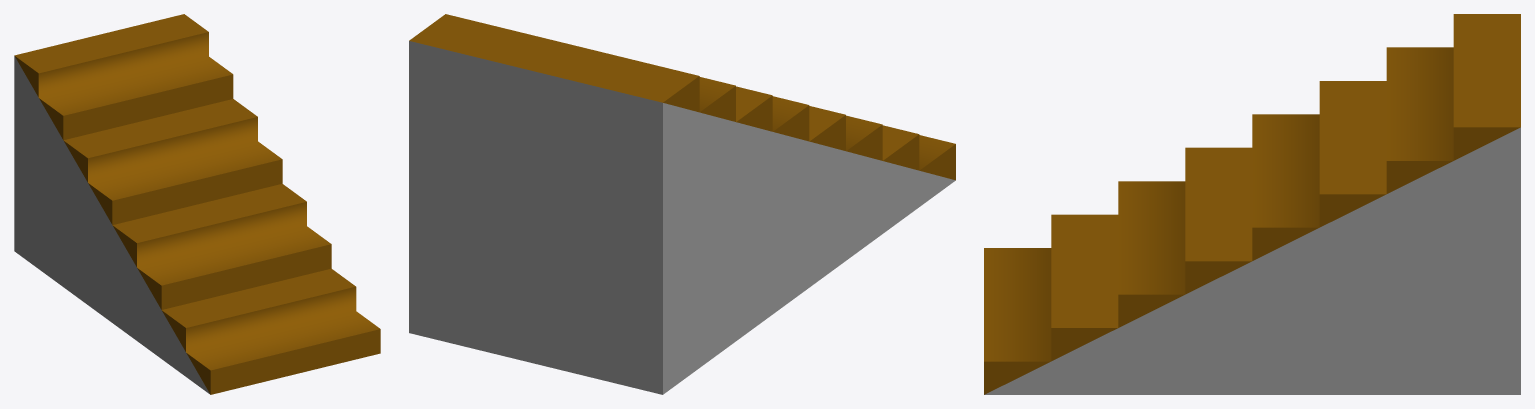
File: Stair_Half_1x2.fbx
3 views of the same model, side by side, from view 1: azimuth 30°, elevation 25°; view 2: azimuth 150°, elevation 25°; view 3: azimuth 270°, elevation 25° (orthographic). The views are drawn at different scales.
Visible parts, largest first — view 1: Stair_Half_1x2; view 2: Stair_Half_1x2; view 3: Stair_Half_1x2.
Part boxes in pixels (x1,y1,x2,y2): Stair_Half_1x2: (14, 14, 380, 394); Stair_Half_1x2: (409, 14, 955, 394); Stair_Half_1x2: (984, 14, 1520, 394).
Bounding box in the file's own units: 1 × 1.1 × 2.
